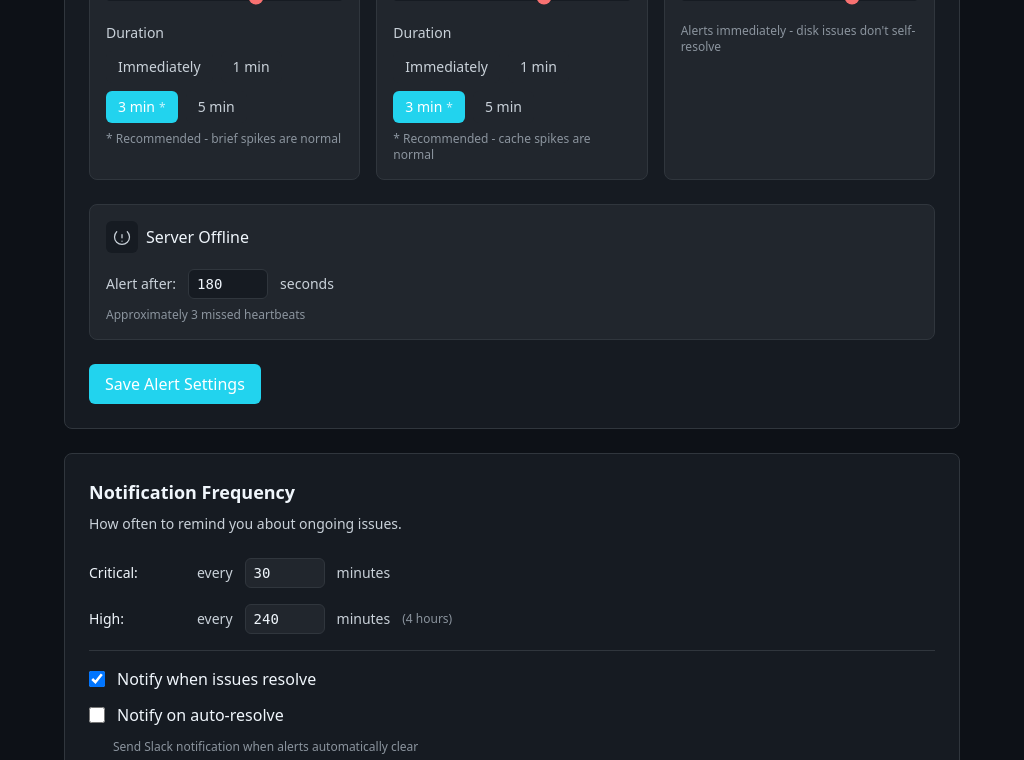
Test: Settings Page › Thresholds saved via API (TC045) › shows success message on save
The image size is (1024, 760).
(page scrolled)
Click the button with test id "save-thresholds-button": (175, 384) x1=89 y1=364 x2=261 y2=404
(page scrolled)
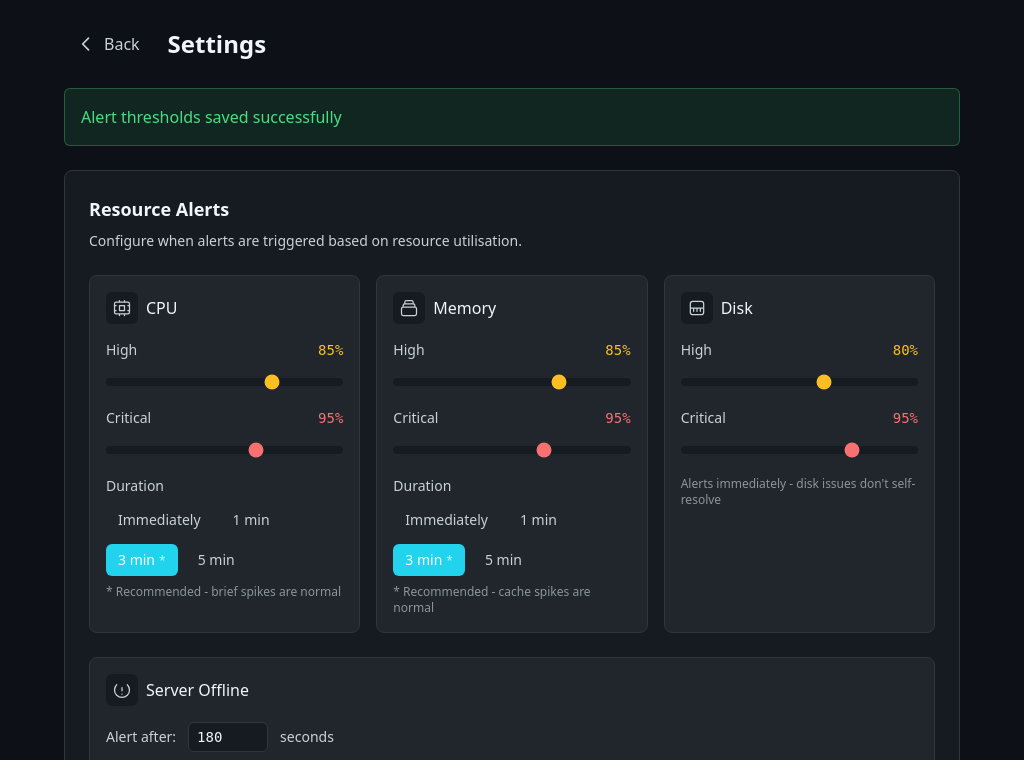
Result: the text "Alert thresholds saved successfully" is shown at x1=64 y1=88 x2=960 y2=146
